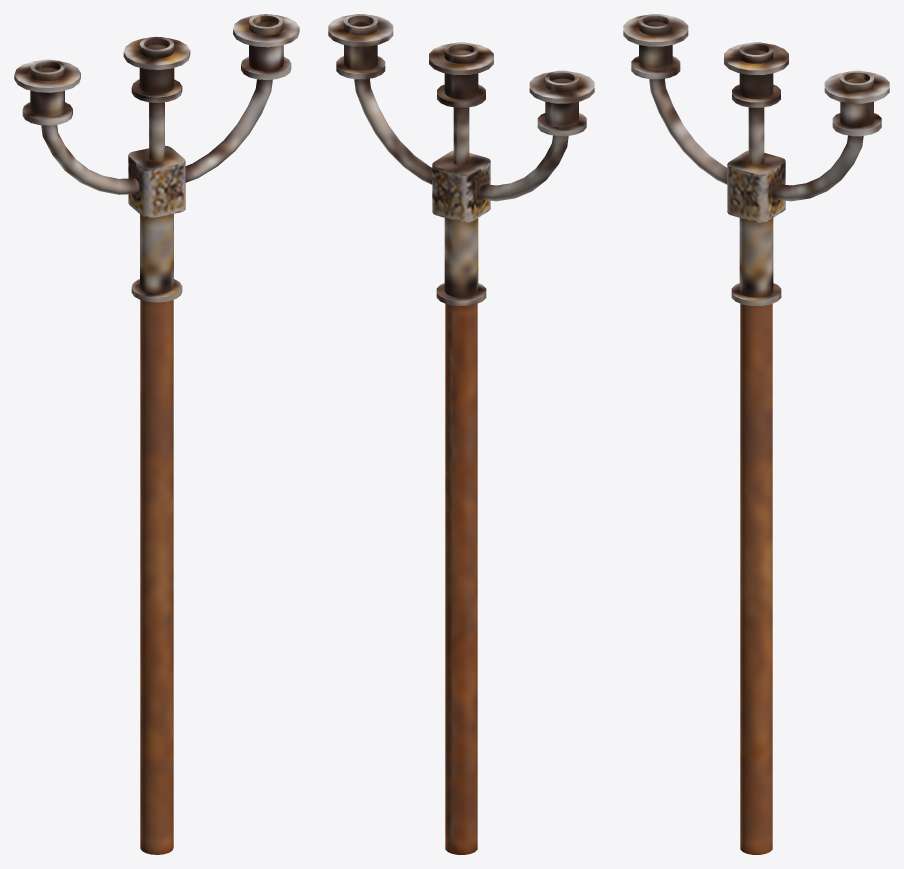
Rendered from candle_holder.fbx.
3 views of the same model, side by side, from view 1: azimuth 30°, elevation 25°; view 2: azimuth 150°, elevation 25°; view 3: azimuth 330°, elevation 25° (orthographic).
Visible parts, largest first — view 1: Cylinder.023; view 2: Cylinder.023; view 3: Cylinder.023.
Boxes of the visible parts, box(x1,y1,x2,y2) form: Cylinder.023: box(14, 14, 299, 854); Cylinder.023: box(328, 14, 594, 854); Cylinder.023: box(623, 14, 889, 854).
Bounding box in the file's own units: 58.01 × 166 × 15.44.
